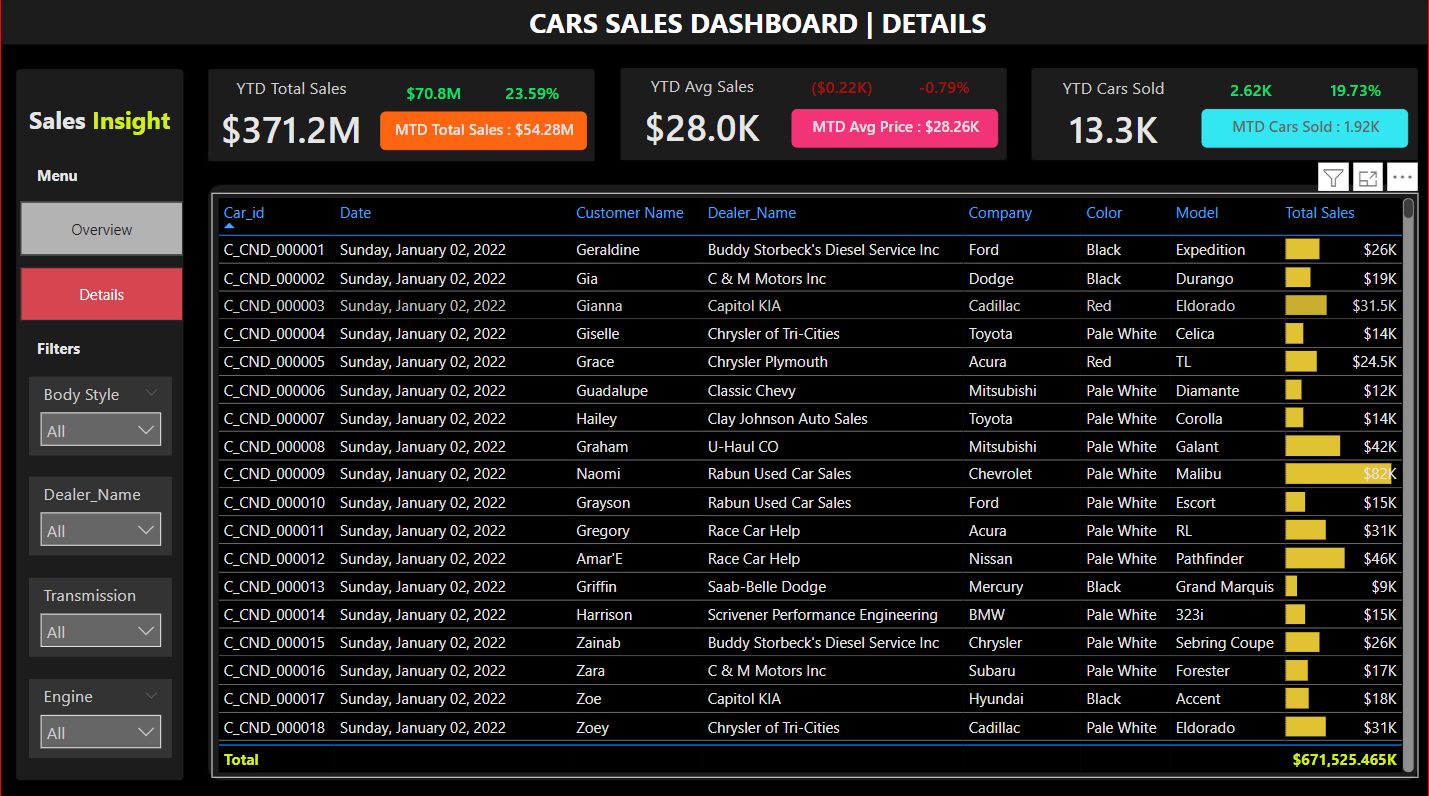

This screenshot's page, from the dashboard's own definition file:
{"tool":"powerbi","page":{"name":"Details","canvas":[1280,720],"ordinal":1},"visuals":[{"type":"card","title":"YTD Total Sales","fields":{"Values":["car_data.YTD Total Sales"]},"box":[192.1,68.6,135.8,74.1],"z":0},{"type":"card","fields":{"Values":["car_data.Sales Difference"]},"box":[348.5,71.4,78.2,26.1],"z":1000},{"type":"card","fields":{"Values":["car_data.YoY Sales Growth"]},"box":[436.4,71.4,78.2,26.1],"z":2000},{"type":"card","fields":{"Values":["car_data.MTD KPI"]},"box":[338.9,100.2,183.9,34.3],"z":3000},{"type":"card","title":"YTD Avg Sales","fields":{"Values":["car_data.YTD Avg Price"]},"box":[557.1,67.2,137.2,74.1],"z":5000},{"type":"card","fields":{"Values":["car_data.Avg Price Diff"]},"box":[710.8,65.9,78.2,26.1],"z":6000},{"type":"card","fields":{"Values":["car_data.YoY Avg Price Growth"]},"box":[802.7,65.9,78.2,26.1],"z":7000},{"type":"card","fields":{"Values":["car_data.MTD Avg Price KPI"]},"box":[705.3,97.4,183.9,34.3],"z":8000},{"type":"card","title":"YTD Cars Sold","fields":{"Values":["car_data.YTD Cars Sold"]},"box":[924,69.3,137.4,72.9],"z":9000},{"type":"card","fields":{"Values":["car_data.Cars Sold Diff"]},"box":[1076.2,69,77.6,25.9],"z":10000},{"type":"card","fields":{"Values":["car_data.YoY Car Sold Growth"]},"box":[1169.6,69,77.6,25.9],"z":11000},{"type":"card","fields":{"Values":["car_data.MTD Cars Sold KPI"]},"box":[1070.5,97.7,183.9,34.5],"z":12000},{"type":"textbox","box":[431.2,0,487.5,55],"z":18000},{"type":"slicer","fields":{"Values":["car_data.Body Style"]},"box":[26.2,336.2,127.5,70],"z":19000},{"type":"slicer","fields":{"Values":["car_data.Dealer_Name"]},"box":[26.2,425,127.5,70],"z":20000},{"type":"slicer","fields":{"Values":["car_data.Transmission"]},"box":[26.2,515,127.5,70],"z":21000},{"type":"slicer","fields":{"Values":["car_data.Engine"]},"box":[26.2,605,127.5,70],"z":22000},{"type":"tableEx","fields":{"Values":["car_data.Car_id","car_data.Date","car_data.Customer Name","car_data.Dealer_Name","car_data.Company","car_data.Color","car_data.Model","Sum(car_data.Price ($))"]},"box":[188.8,172.5,1075,521.2],"z":22001},{"type":"textbox","box":[15,87.5,150,48.8],"z":22002},{"type":"textbox","box":[28.8,142.5,75,30],"z":22003},{"type":"pageNavigator","box":[18.8,180,145,106.2],"z":22004},{"type":"textbox","box":[28.8,297.5,75,30],"z":22005}]}

Visuals, with their boxes in screenshot pixels (x1, y1, x2, y2), scaled from the page's 1280x720 canvas onto the 1429x796 screenshot:
"YTD Total Sales" card: bbox(214, 76, 366, 158)
card - car_data.Sales Difference: bbox(389, 79, 476, 108)
card - car_data.YoY Sales Growth: bbox(487, 79, 575, 108)
card - car_data.MTD KPI: bbox(378, 111, 584, 149)
"YTD Avg Sales" card: bbox(622, 74, 775, 156)
card - car_data.Avg Price Diff: bbox(794, 73, 881, 102)
card - car_data.YoY Avg Price Growth: bbox(896, 73, 983, 102)
card - car_data.MTD Avg Price KPI: bbox(787, 108, 993, 146)
"YTD Cars Sold" card: bbox(1032, 77, 1185, 157)
card - car_data.Cars Sold Diff: bbox(1201, 76, 1288, 105)
card - car_data.YoY Car Sold Growth: bbox(1306, 76, 1392, 105)
card - car_data.MTD Cars Sold KPI: bbox(1195, 108, 1400, 146)
textbox: bbox(481, 0, 1026, 61)
slicer - car_data.Body Style: bbox(29, 372, 172, 449)
slicer - car_data.Dealer_Name: bbox(29, 470, 172, 547)
slicer - car_data.Transmission: bbox(29, 569, 172, 647)
slicer - car_data.Engine: bbox(29, 669, 172, 746)
tableEx - car_data.Car_id x car_data.Date: bbox(211, 191, 1411, 767)
textbox: bbox(17, 97, 184, 151)
textbox: bbox(32, 158, 116, 191)
pageNavigator: bbox(21, 199, 183, 316)
textbox: bbox(32, 329, 116, 362)
